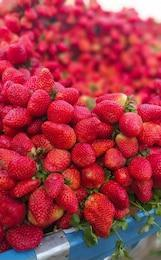Fresa: (81, 189, 117, 241), (39, 117, 79, 153), (6, 221, 44, 252), (125, 153, 154, 183), (8, 154, 40, 181), (74, 114, 100, 145), (69, 141, 98, 168), (118, 111, 146, 138), (2, 105, 32, 129), (43, 170, 65, 200)
